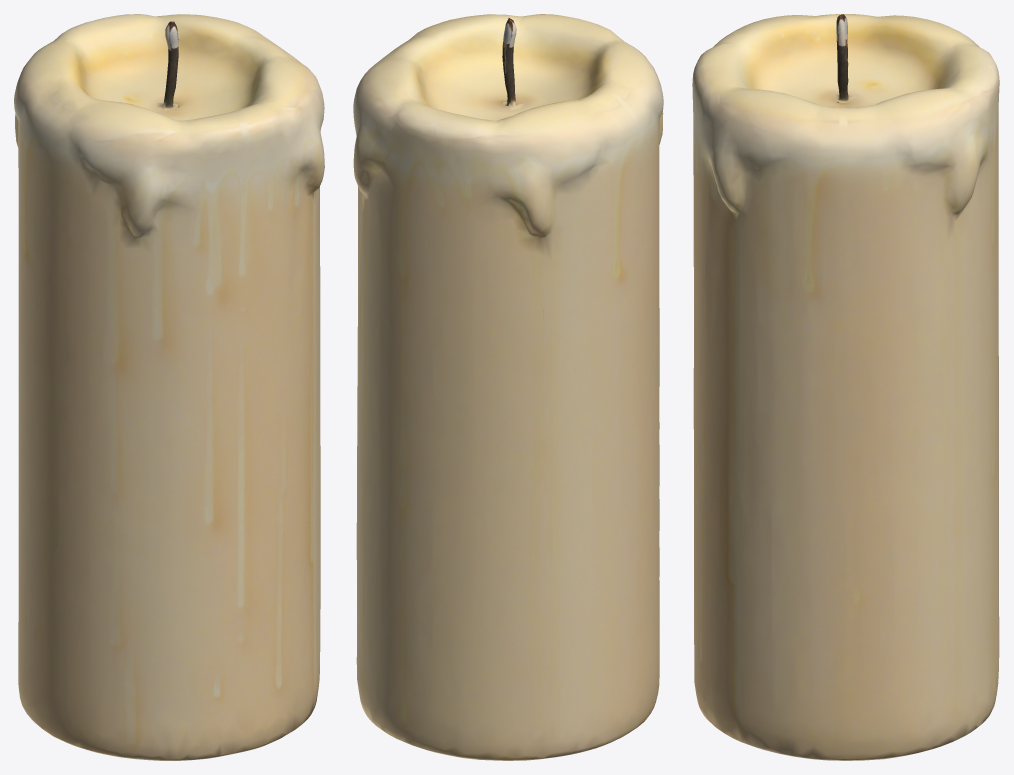
The model's file is Candle.glb.
3 renders of one model, left to right at view 1: azimuth 30°, elevation 25°; view 2: azimuth 150°, elevation 25°; view 3: azimuth 270°, elevation 25°, orthographic.
Bounding box in the file's own units: 0.7941 × 1.99 × 0.8031.
Materials: 1 (1 with a texture image).
